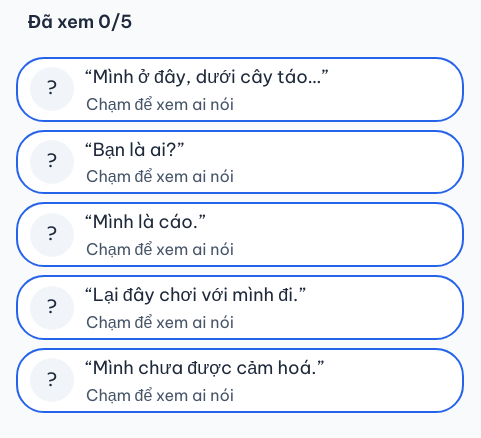
neu-cau-muon-co-mot-nguoi-ban visuals › reveals who says a line only once its bubble is tapped
Click the button "? “Bạn là ai?” Chạm để xem ai nói".
click(52, 162)  # box x1=16 y1=130 x2=464 y2=194
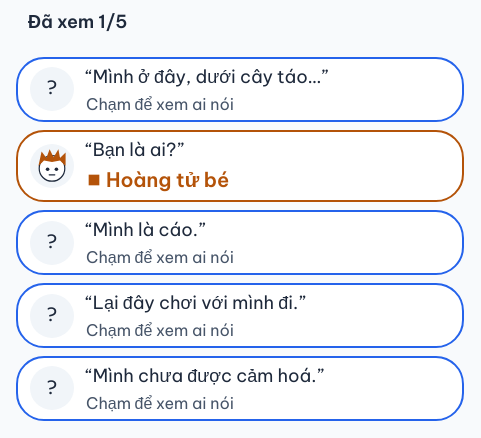
Now the button "“Bạn là ai?” Hoàng tử bé" is shown, box x1=16 y1=130 x2=464 y2=202
